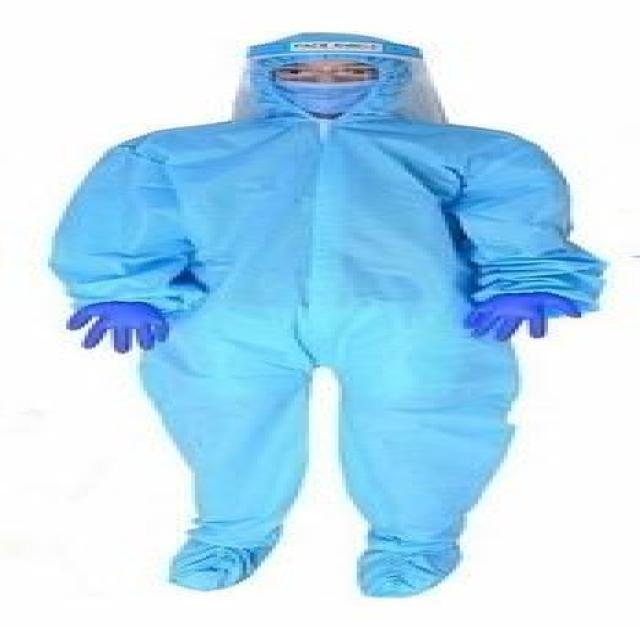Coverall: (41, 28, 611, 599)
Gloves: (59, 301, 180, 352), (463, 293, 585, 341)
Mask: (265, 77, 390, 114)
